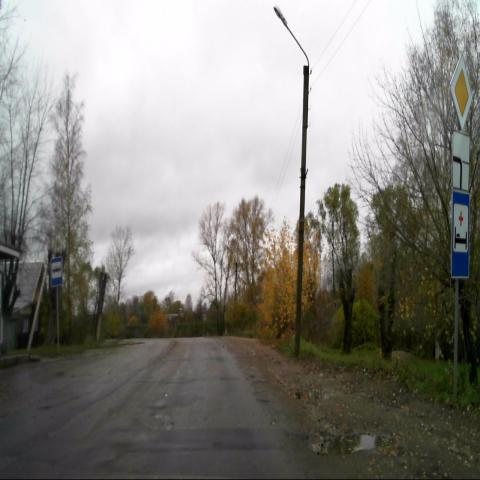7_2: (450, 191, 470, 278)
